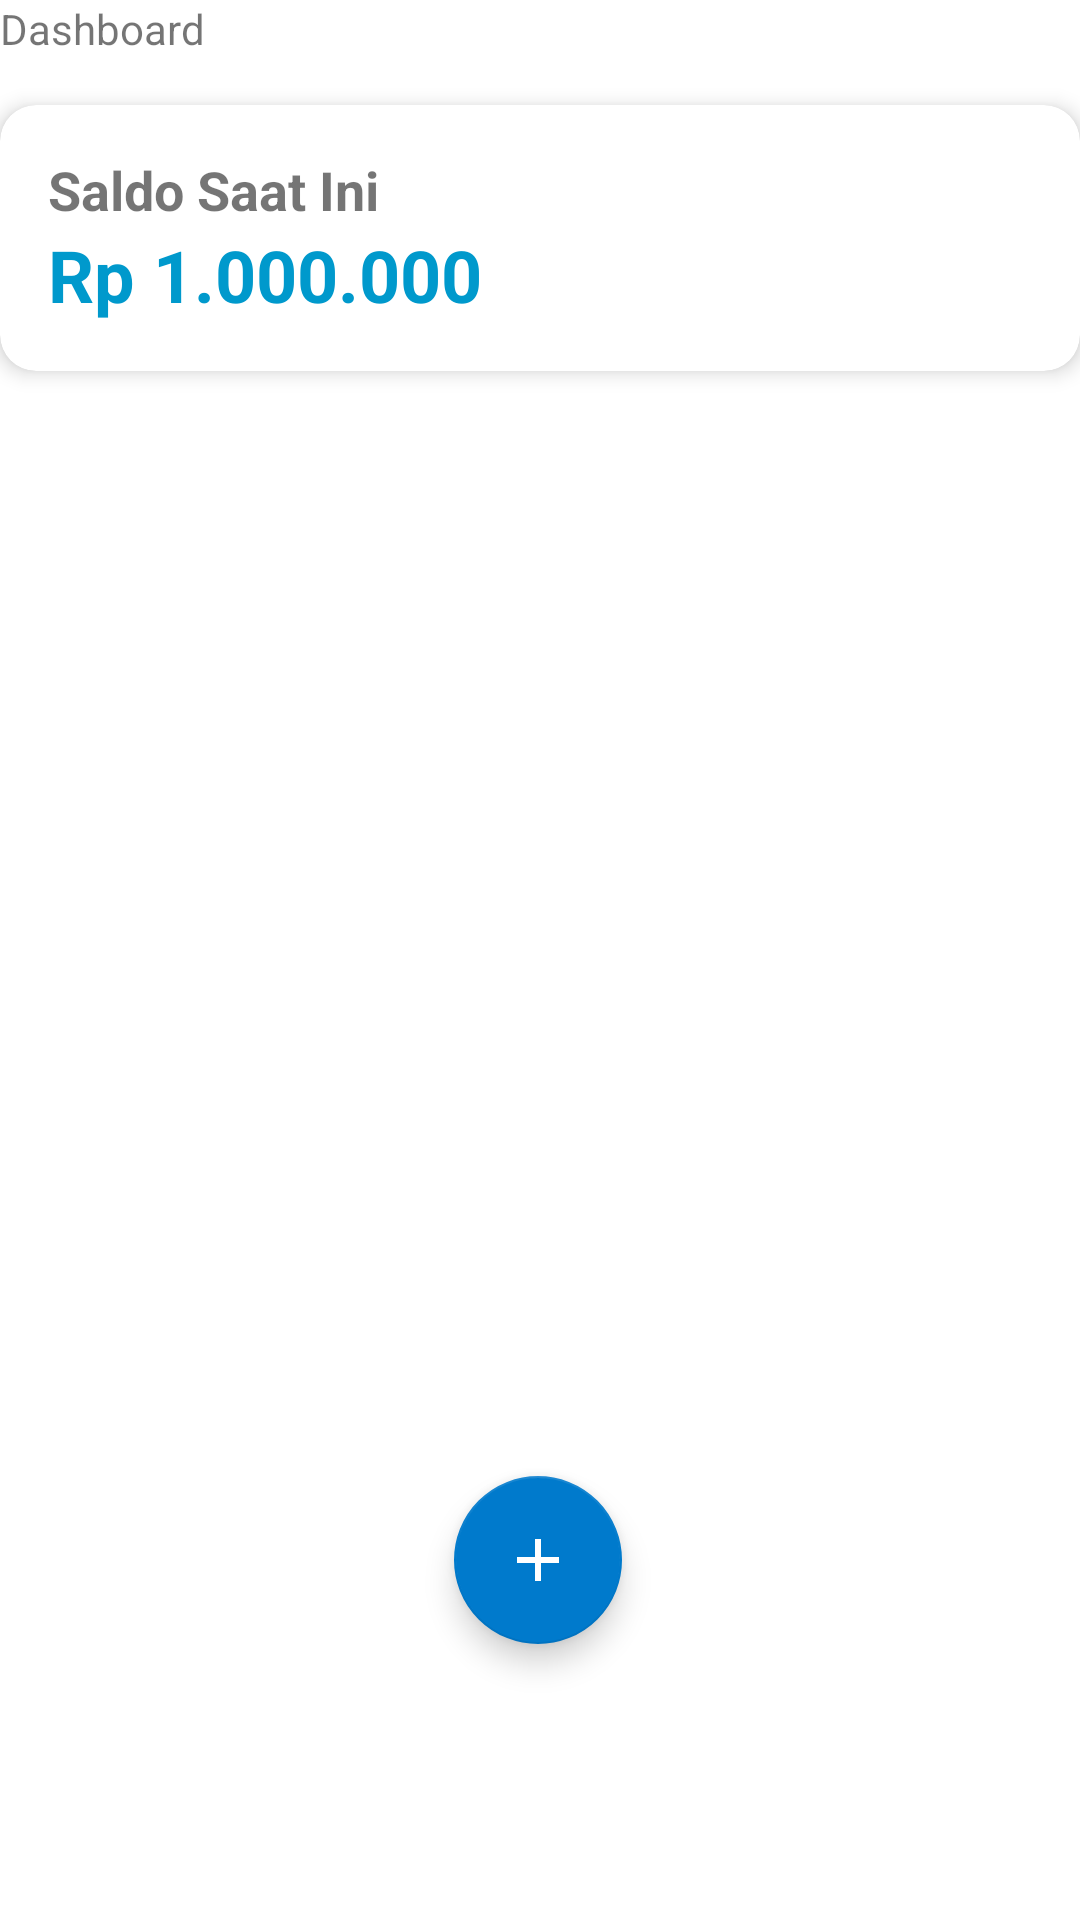

Named icons in this screenshot (1080w x 1920h) and their centers, [x,y]:
Tambah Transaksi: [538,1560]
